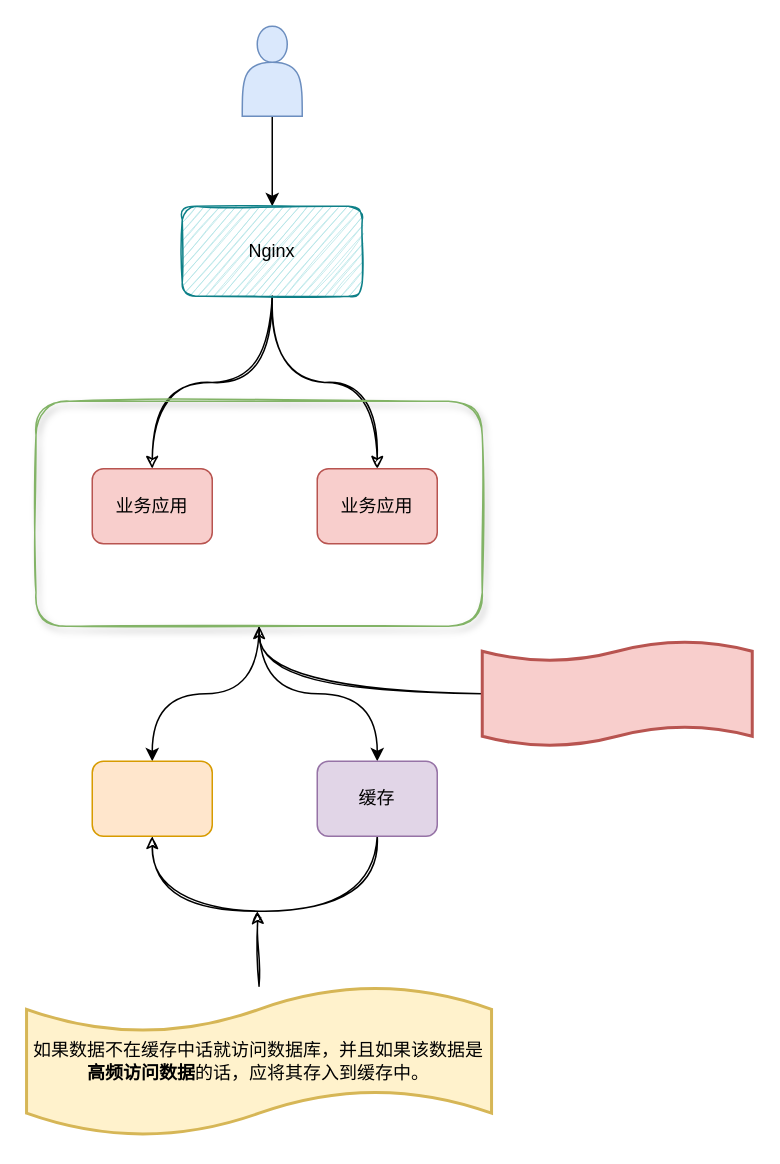
Image size: 780x1164. Some labels were removed from this diagram. The shapes that lost their labels are listed below. From the top down, each one's centre as x and y in pixels, then its label:
At [271,70]: "用户".
At [616,693]: "先判断要请求的数据是否存在于缓存中，如果在的话直接从缓存中读取出数据返回".
At [151,798]: "数据库".
